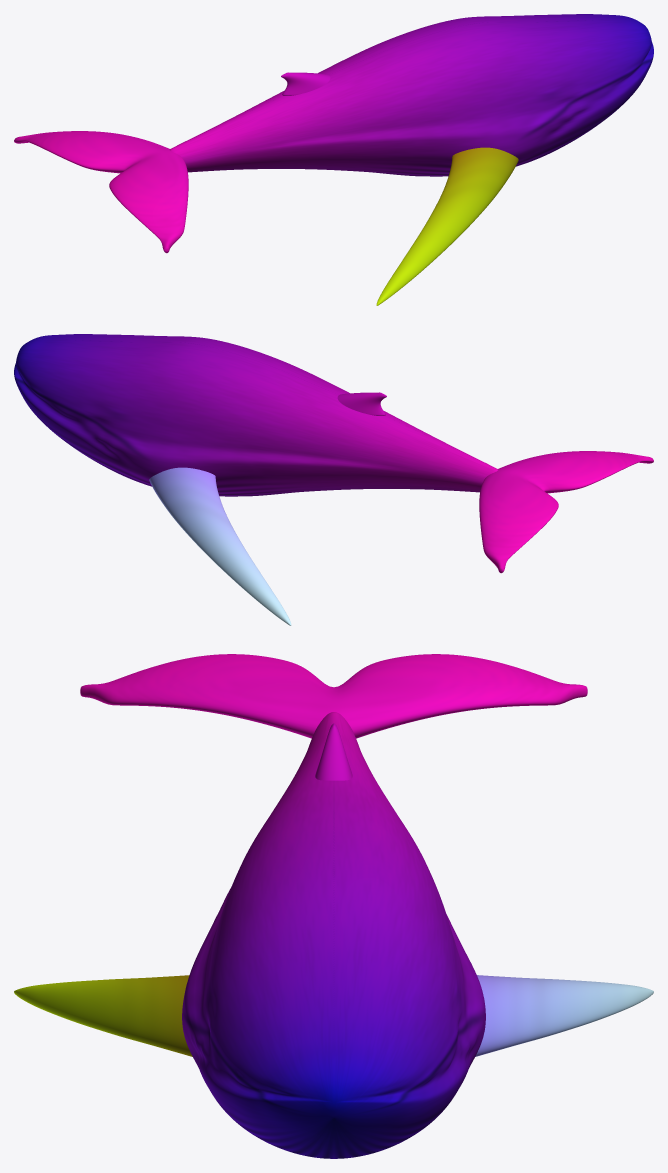
Rendered from wh01_v20_hero.glb.
3 renders of one model, top to bottom at view 1: azimuth 30°, elevation 25°; view 2: azimuth 150°, elevation 25°; view 3: azimuth 270°, elevation 25°, orthographic. The views are drawn at different scales.
Parts seen in each view (by area): view 1: WH01_v20_Whale; view 2: WH01_v20_Whale; view 3: WH01_v20_Whale.
Boxes of the visible parts, x1,y1,x2,y2 form: WH01_v20_Whale: (14,14,653,305); WH01_v20_Whale: (14,334,653,625); WH01_v20_Whale: (14,654,653,1158).
Size of the model in its own units: 24.28 by 6.86 by 14.27.
2 materials, 1 textured.
